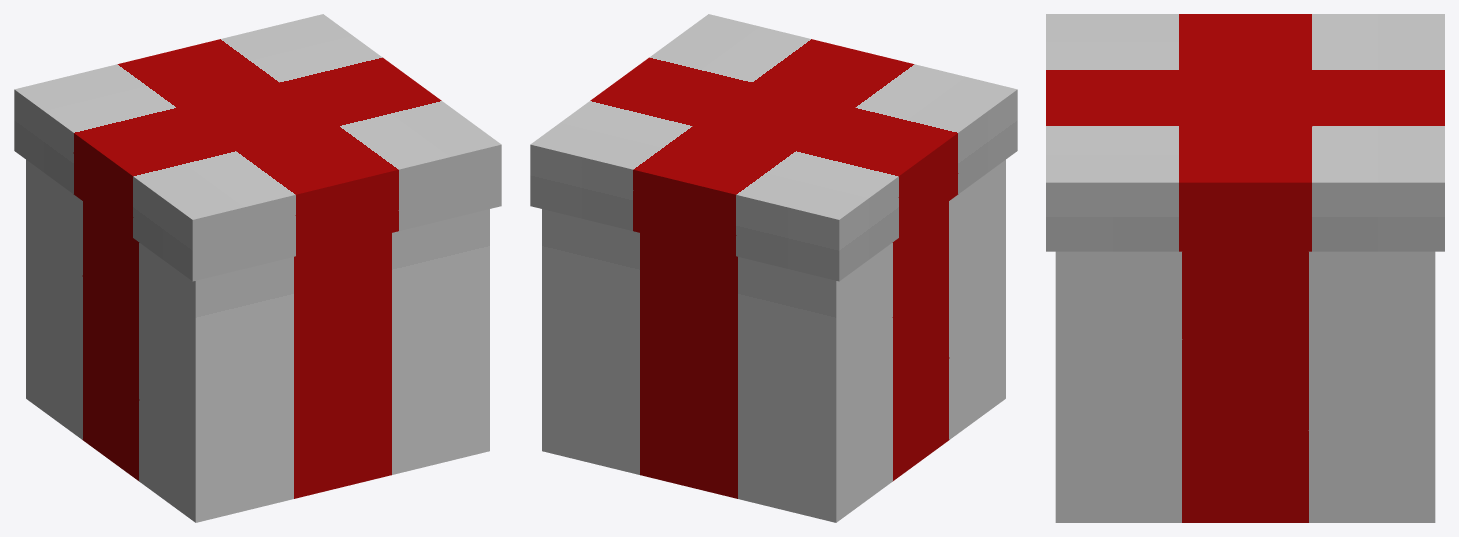
The model's file is present_box_small.obj.
3 views of the same model, side by side, from view 1: azimuth 30°, elevation 25°; view 2: azimuth 150°, elevation 25°; view 3: azimuth 270°, elevation 25° (orthographic). The views are drawn at different scales.
Visible parts, largest first — view 1: present_box_small_present_box_small_mesh; view 2: present_box_small_present_box_small_mesh; view 3: present_box_small_present_box_small_mesh.
Part boxes in pixels (x1,y1,x2,y2): present_box_small_present_box_small_mesh: (14,14,501,522); present_box_small_present_box_small_mesh: (530,14,1017,522); present_box_small_present_box_small_mesh: (1046,14,1444,522).
Size of the model in its own units: 0.525 by 0.5 by 0.525.
